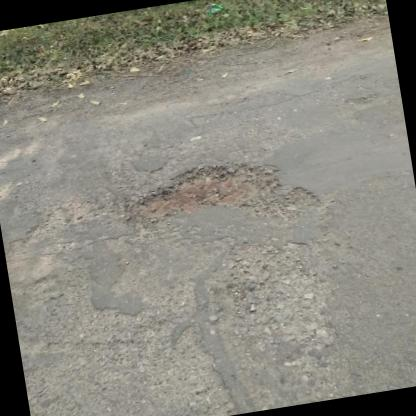pothole: (118, 143, 325, 243)
